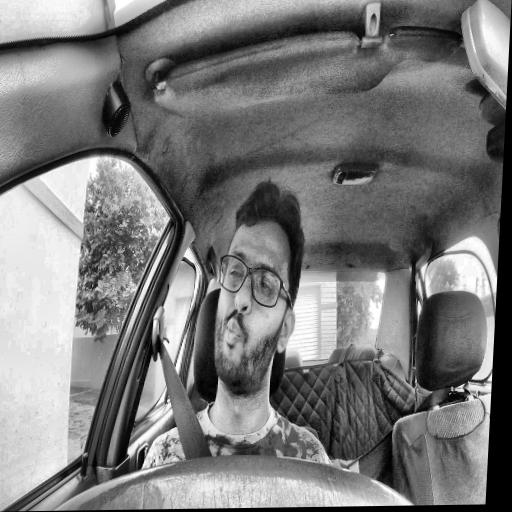awake: (207, 181, 307, 403)
